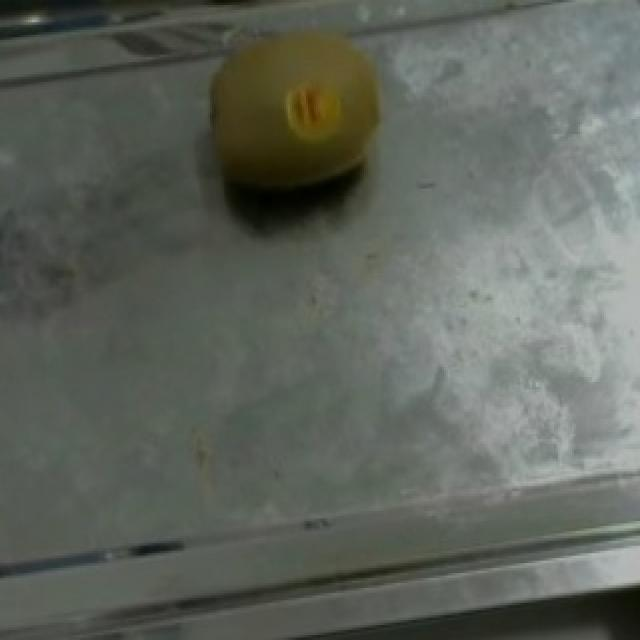Fruit: (172, 0, 410, 226)
